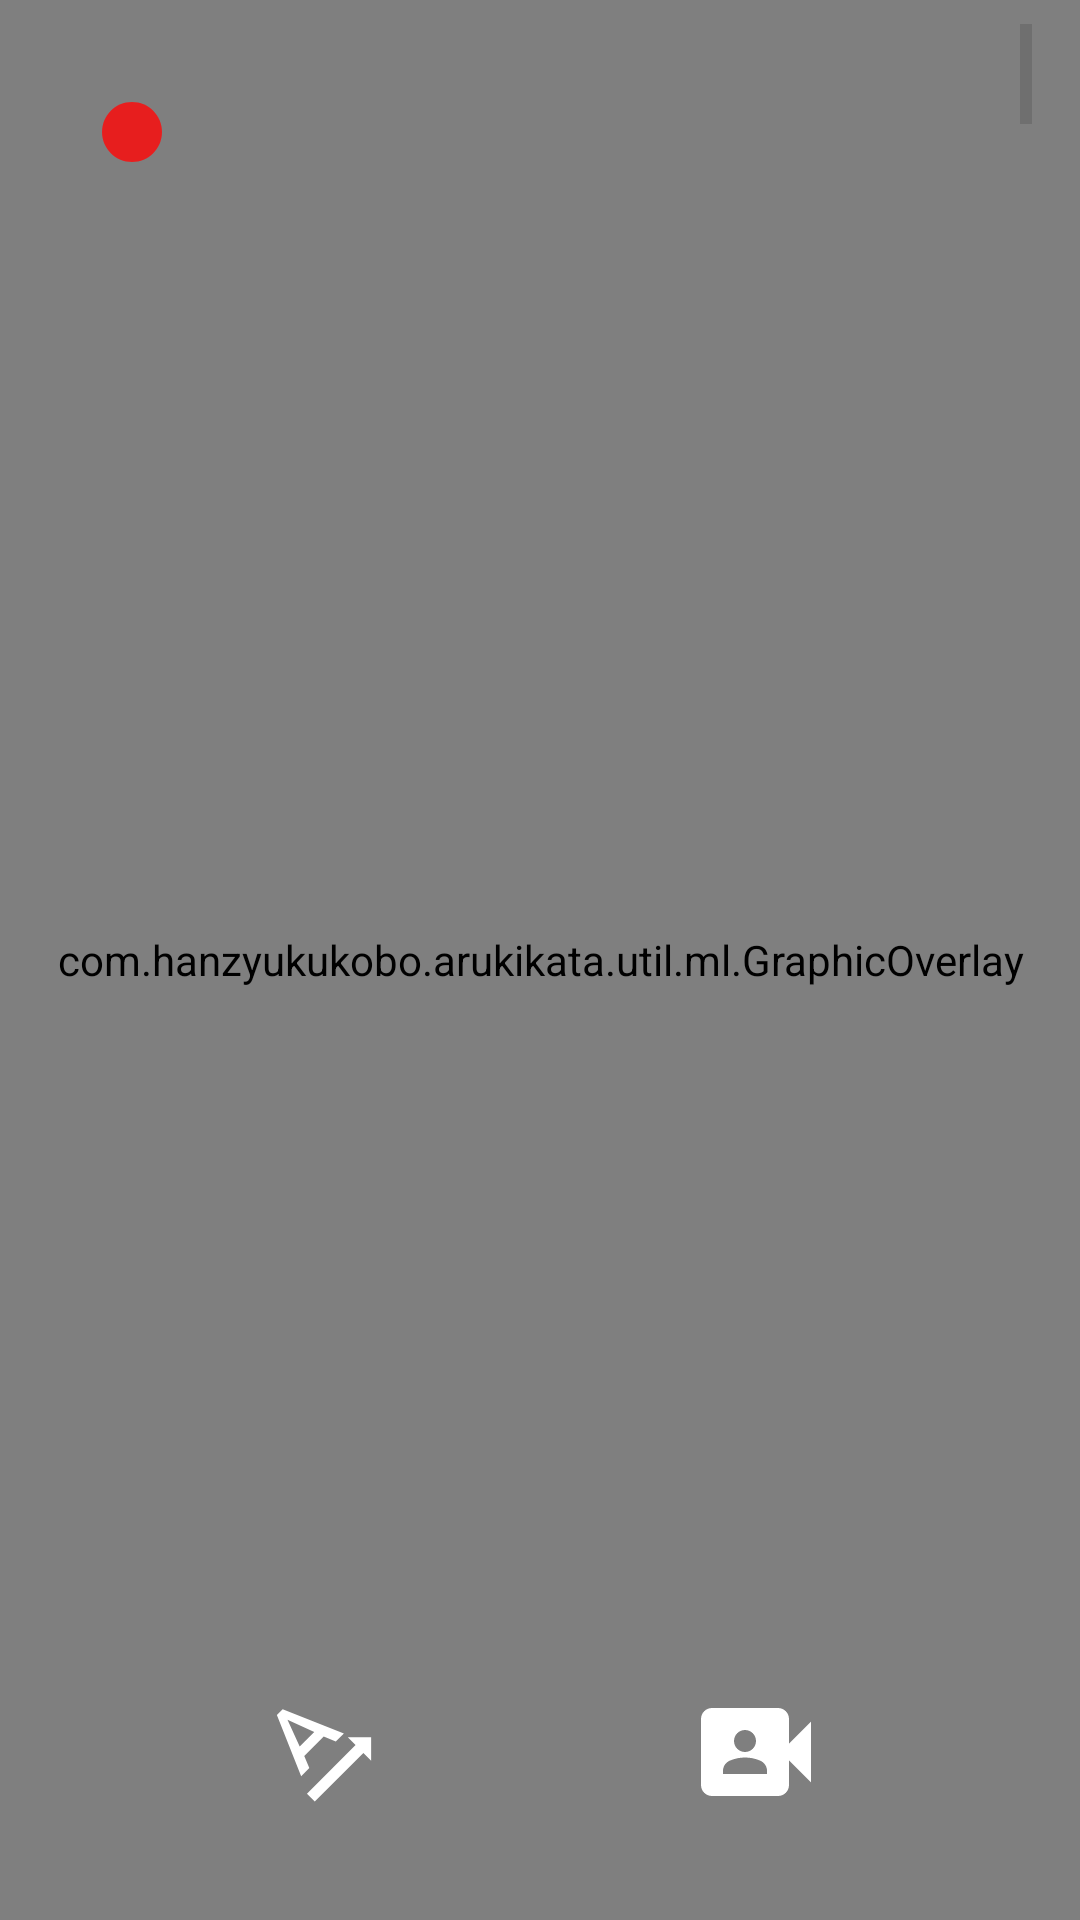

Icons on this 1080w x 1920h Android screen, each with the point to tap as (x,y):
circle: (132,132)
text rotation angleup: (324,1755)
video camera front: (756,1752)
